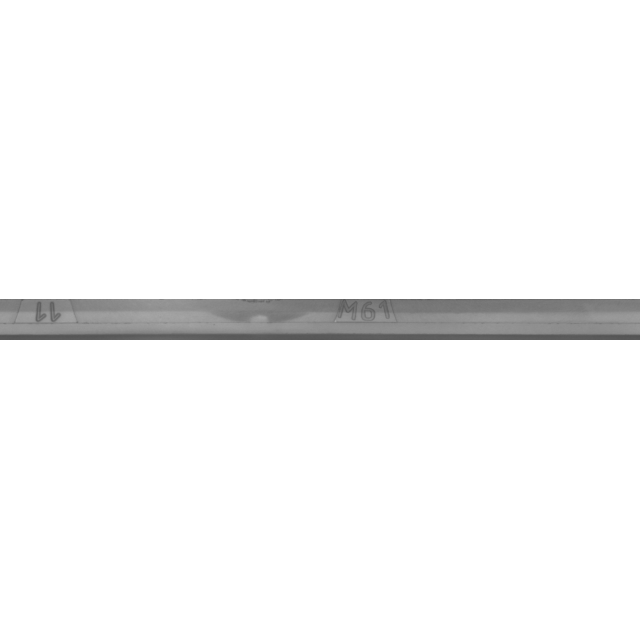mohao: (267, 270, 467, 370)
xuehao: (0, 270, 145, 370)
